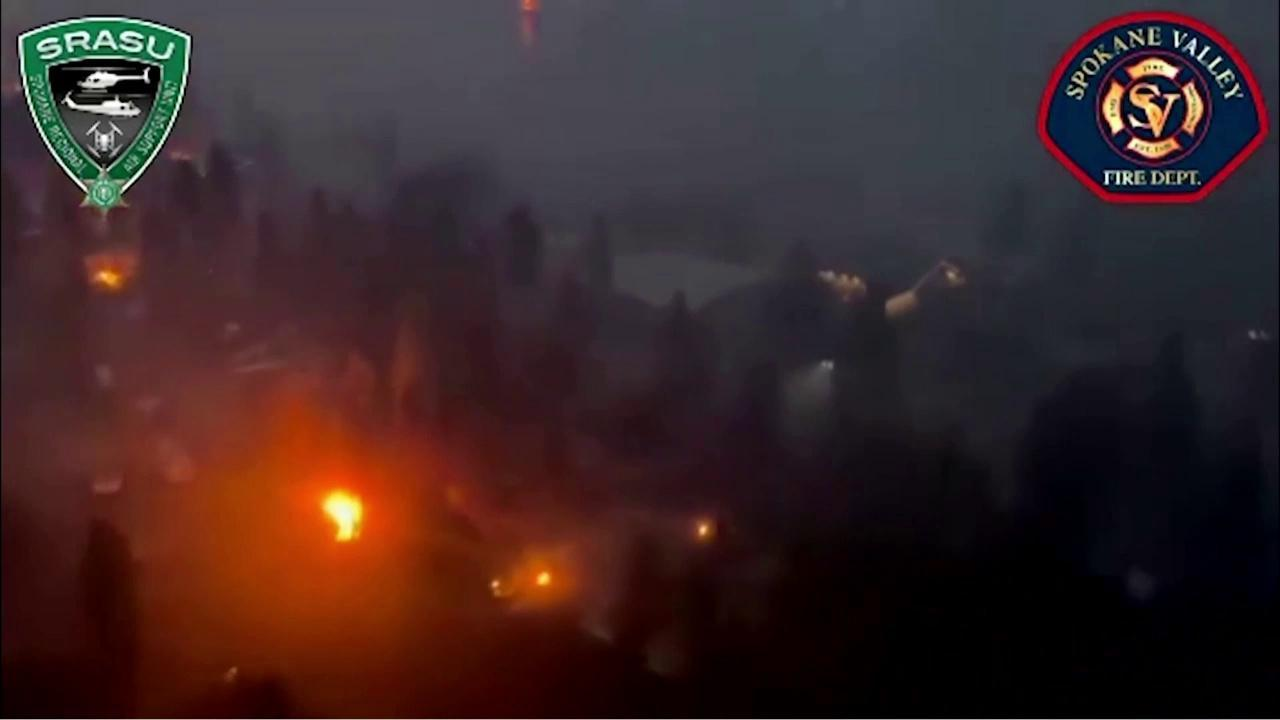fire: (314, 484, 367, 546), (504, 0, 546, 57), (79, 249, 129, 290), (533, 568, 554, 587), (694, 521, 713, 541)
smoke: (2, 0, 1278, 720)
